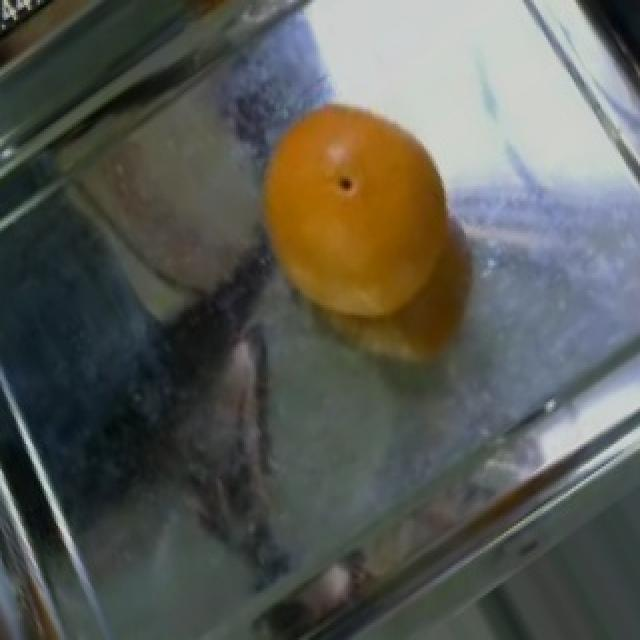Fruit: (236, 82, 482, 394), (0, 0, 160, 74)
